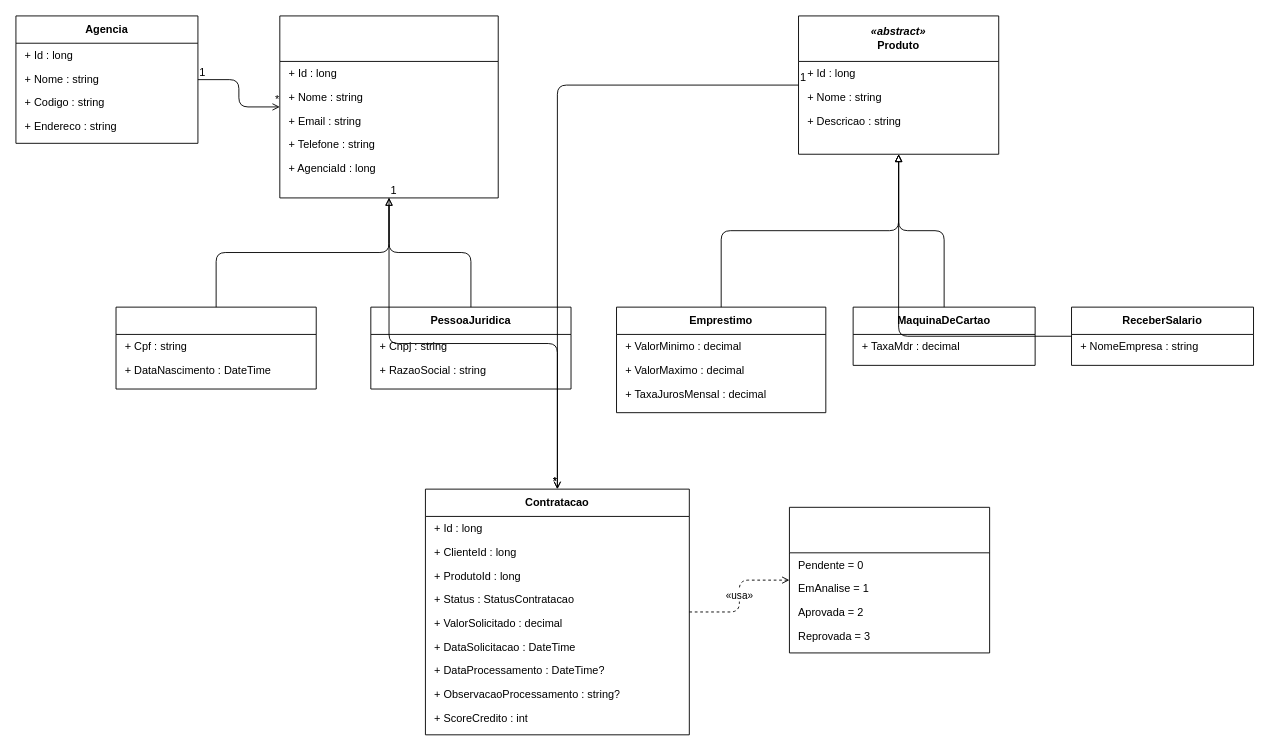
This 1269x751 diagram has some shape labels left out. The box of each missing label's shape, as (x1, y1, x2, y2) in pixels:
PessoaFisica: (115, 306, 316, 389)
«abstract» Cliente: (279, 15, 498, 198)
«enumeration» StatusContratacao: (789, 506, 990, 653)
